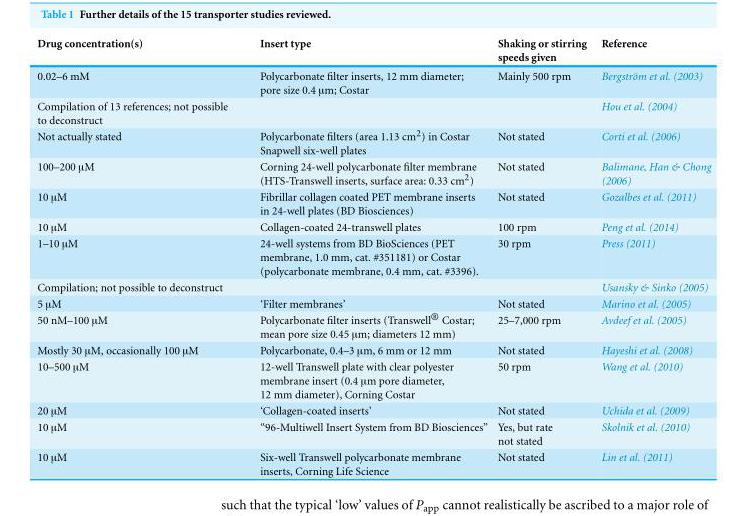table: (36, 36, 710, 476)
table column: (243, 36, 491, 476), (36, 36, 243, 476), (593, 36, 710, 476), (491, 36, 593, 476)
table column header: (36, 36, 710, 66)
table row: (36, 234, 710, 278), (36, 358, 710, 402), (36, 126, 710, 158), (36, 66, 710, 97), (36, 310, 710, 341), (36, 36, 710, 66), (36, 158, 710, 188), (36, 188, 710, 218), (36, 418, 710, 448), (36, 97, 710, 126), (36, 448, 710, 476), (36, 278, 710, 295), (36, 341, 710, 358), (36, 218, 710, 234), (36, 402, 710, 418), (36, 295, 710, 310)
